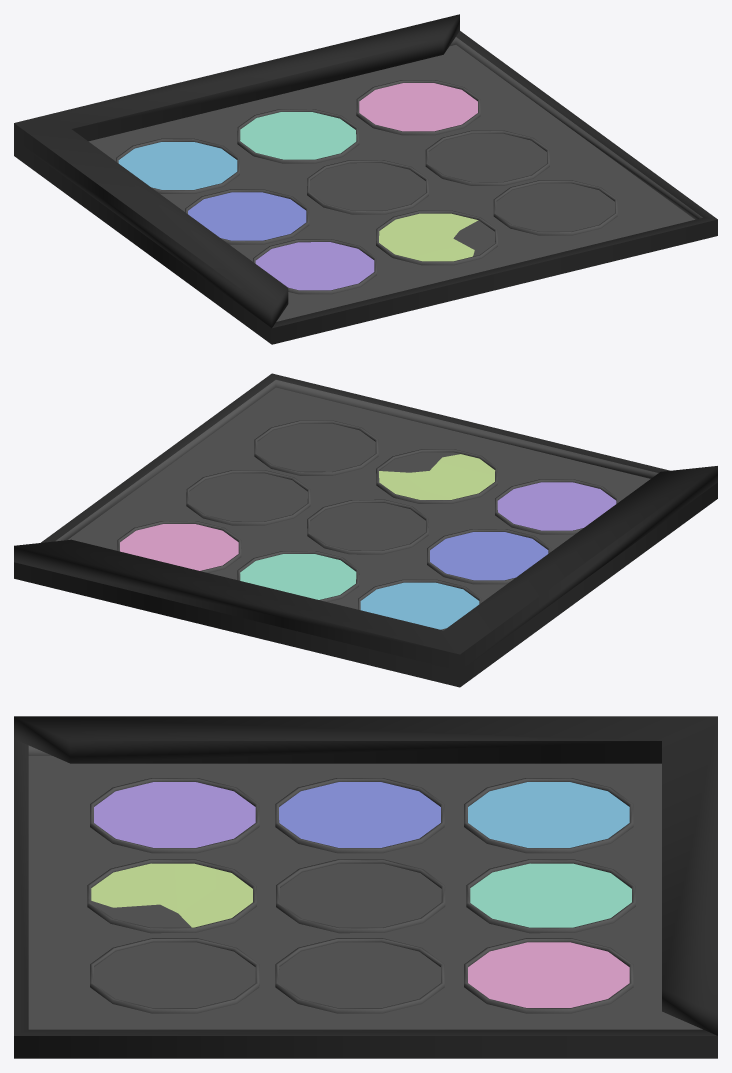
The model's file is Maquiagem_Sombras_Ruim.fbx.
3 renders of one model, top to bottom at view 1: azimuth 30°, elevation 25°; view 2: azimuth 150°, elevation 25°; view 3: azimuth 270°, elevation 25°, orthographic. The views are drawn at different scales.
Parts seen in each view (by area): view 1: Maquiagem_Sombras_Ruim; view 2: Maquiagem_Sombras_Ruim; view 3: Maquiagem_Sombras_Ruim.
Part boxes in pixels (<box>): Maquiagem_Sombras_Ruim: <box>14,14,717,344</box>; Maquiagem_Sombras_Ruim: <box>14,373,717,687</box>; Maquiagem_Sombras_Ruim: <box>14,716,717,1058</box>.
Bounding box in the file's own units: 23.66 × 1.67 × 23.7.
